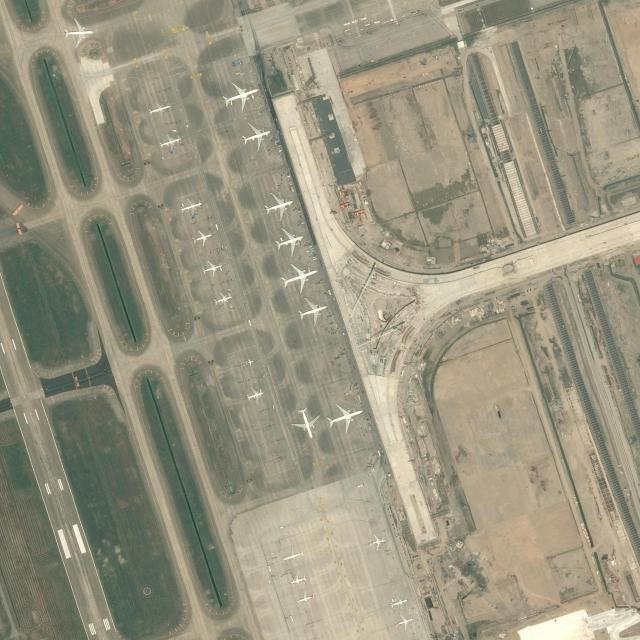aircraft: (220, 82, 258, 114), (280, 262, 318, 294), (327, 402, 365, 432), (62, 17, 94, 49), (262, 192, 294, 222), (291, 407, 321, 438), (272, 227, 304, 256), (242, 122, 270, 152), (296, 298, 326, 326), (146, 100, 172, 118), (157, 134, 181, 153), (280, 547, 306, 563), (179, 198, 201, 216), (190, 230, 212, 248), (200, 260, 222, 278), (244, 388, 266, 404), (386, 595, 411, 609), (212, 292, 233, 308), (367, 534, 386, 551), (288, 571, 308, 587), (296, 590, 316, 606), (394, 616, 414, 630), (244, 358, 255, 368)
